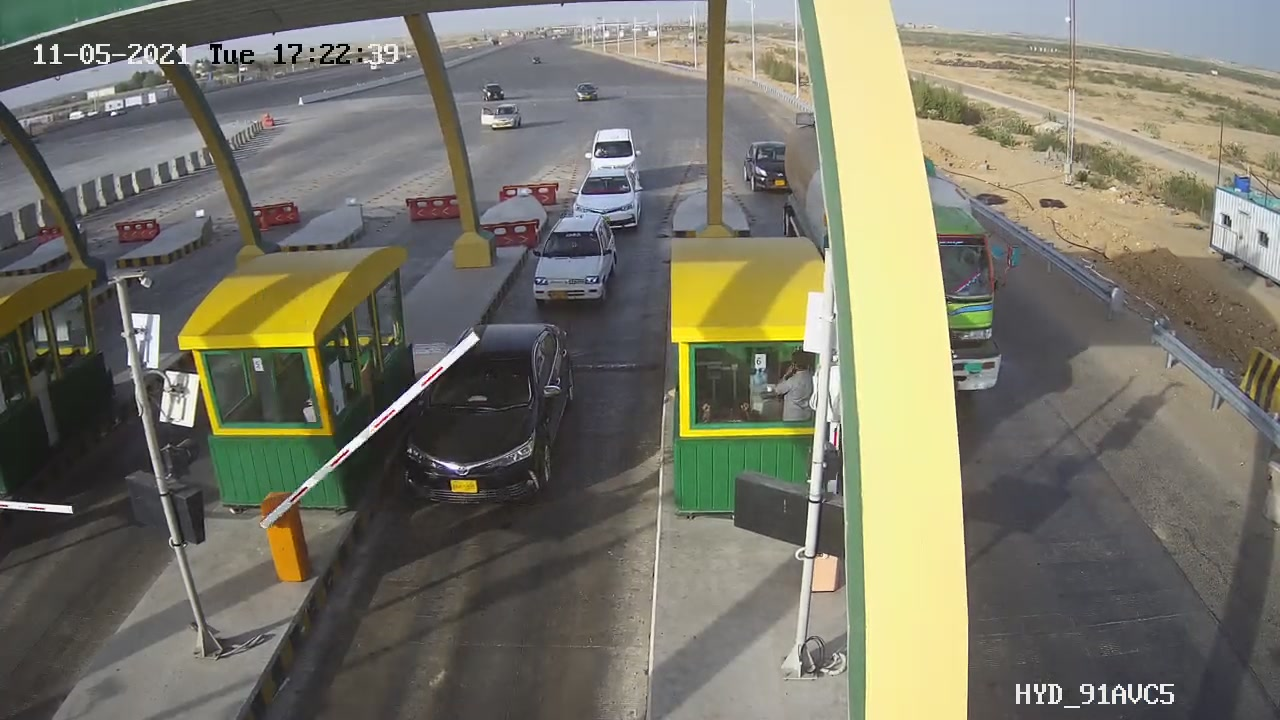F1: (386, 311, 591, 533), (508, 205, 634, 320)
